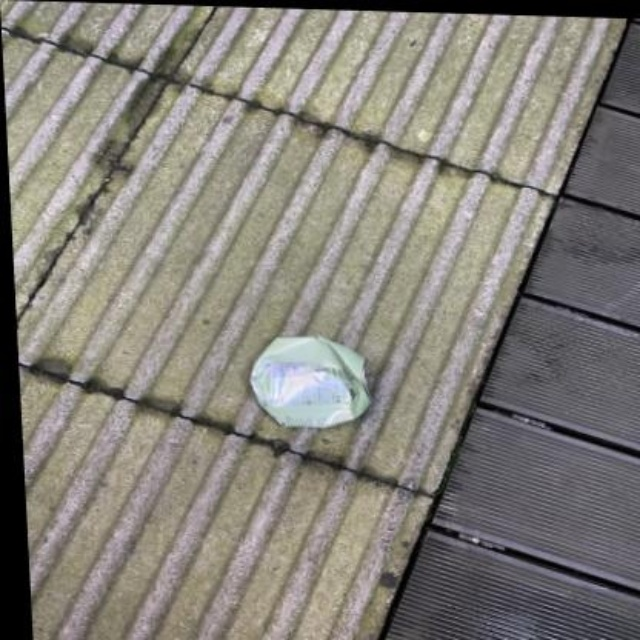trash: (249, 337, 368, 426)
